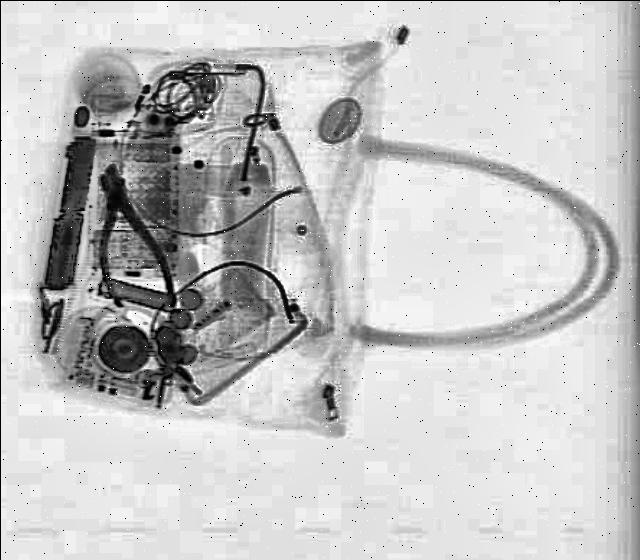Pliers: (74, 156, 182, 316)
